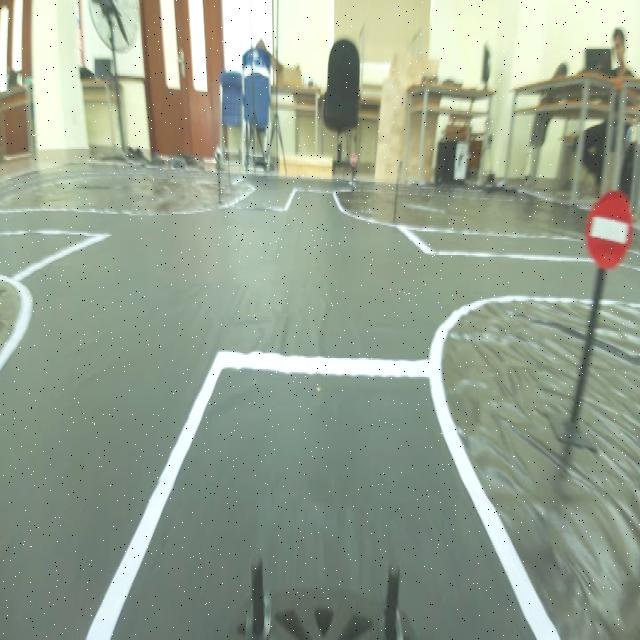no_entry: (579, 176, 639, 280)
